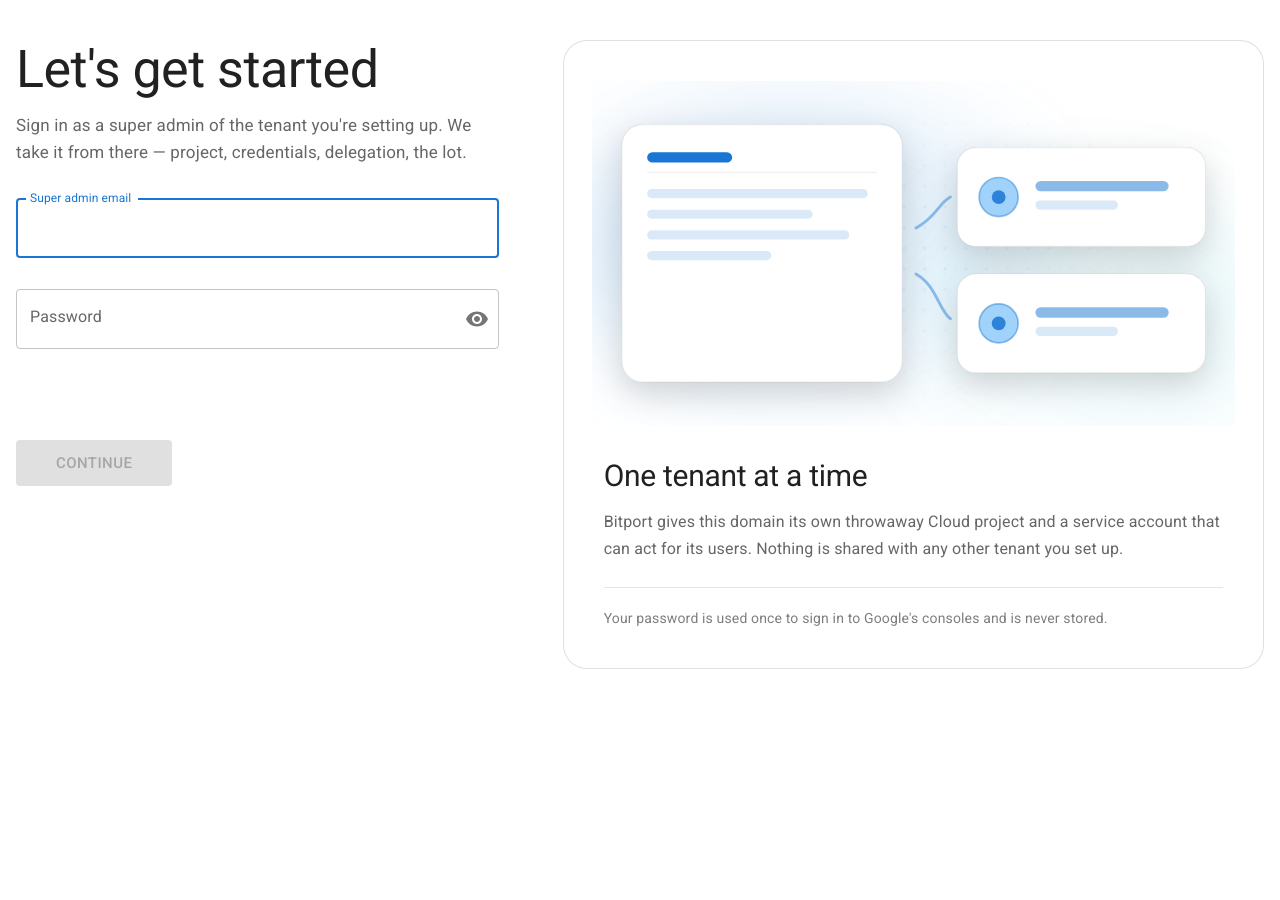
it: the credential is the first question › says why, rather than just staying disabled
Type "admin" into the field with test id "admin-email".
click(257, 228); type("admin")  # box x1=16 y1=200 x2=499 y2=256
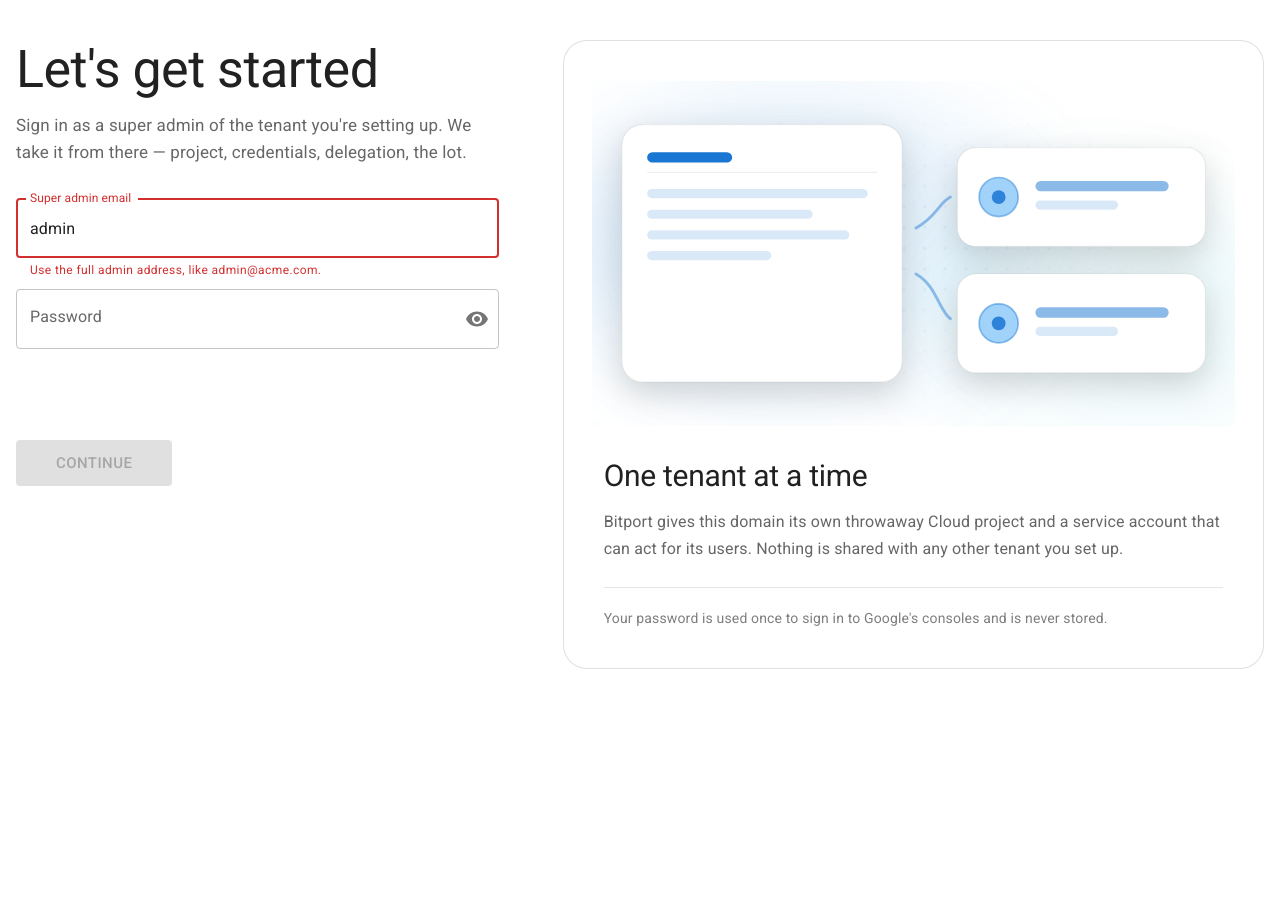
expect the text "Use the full admin address, like admin@acme.com." is shown: met, box x1=30 y1=263 x2=321 y2=277
